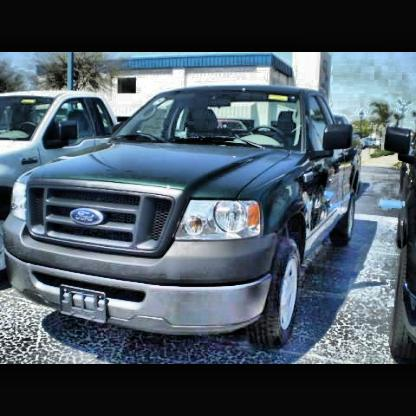Ford F-150 Regular Cab 2007: (5, 89, 362, 351)
